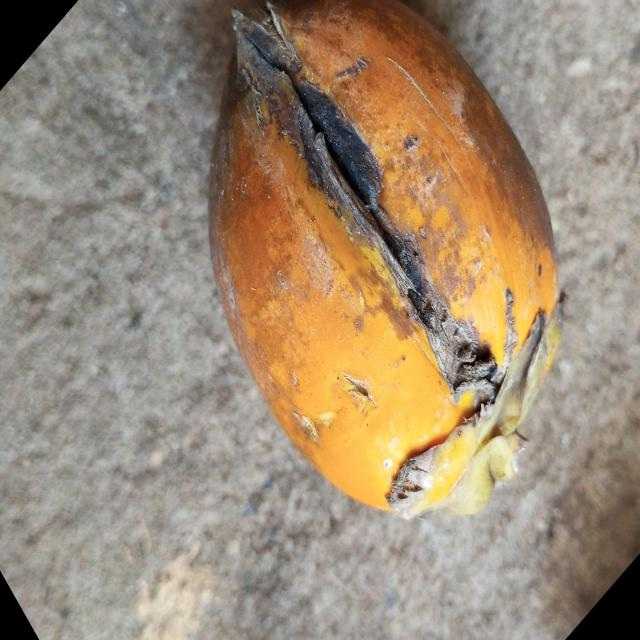damaged: (207, 0, 563, 520)
